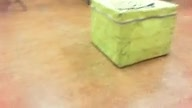cube: (90, 1, 179, 68)
